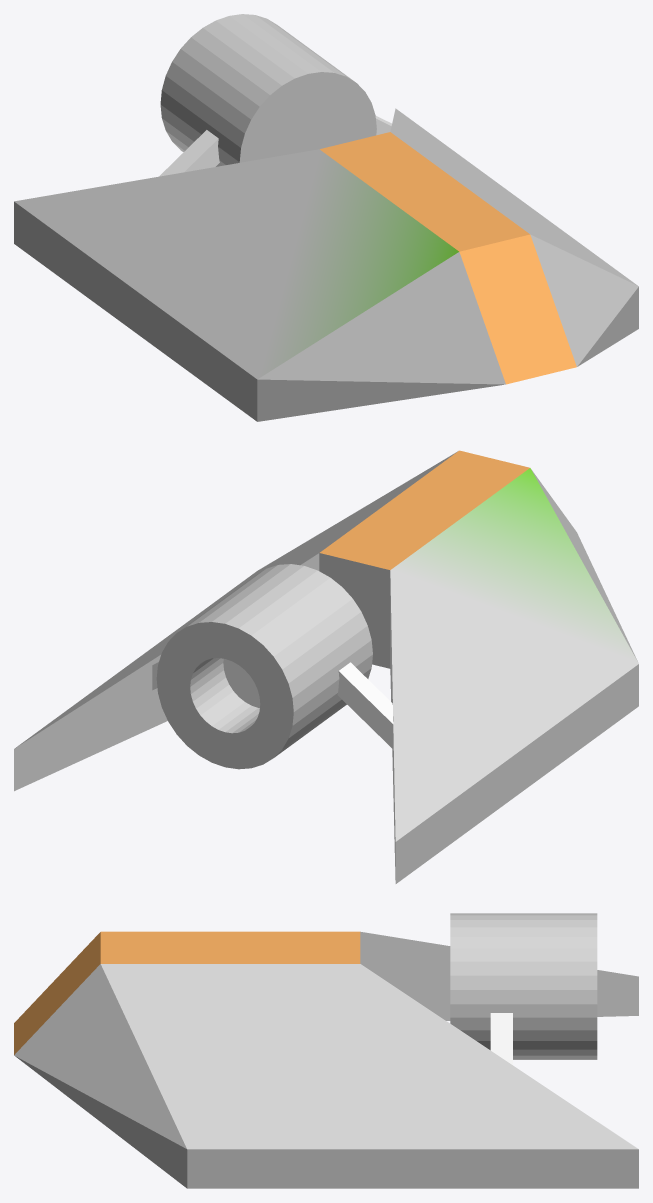
The model's file is Light1.fbx.
The picture shows the model from 3 angles, top to bottom: view 1: azimuth 30°, elevation 25°; view 2: azimuth 150°, elevation 25°; view 3: azimuth 270°, elevation 25°; orthographic projection. The views are drawn at different scales.
Parts seen in each view (by area): view 1: Cylinder.002; view 2: Cylinder.002; view 3: Cylinder.002.
Part boxes in pixels (box(x1,y1,x2,y2)): Cylinder.002: box(14, 14, 638, 421); Cylinder.002: box(14, 450, 638, 883); Cylinder.002: box(14, 913, 638, 1188).
Bounding box in the file's own units: 556 × 275 × 850.
